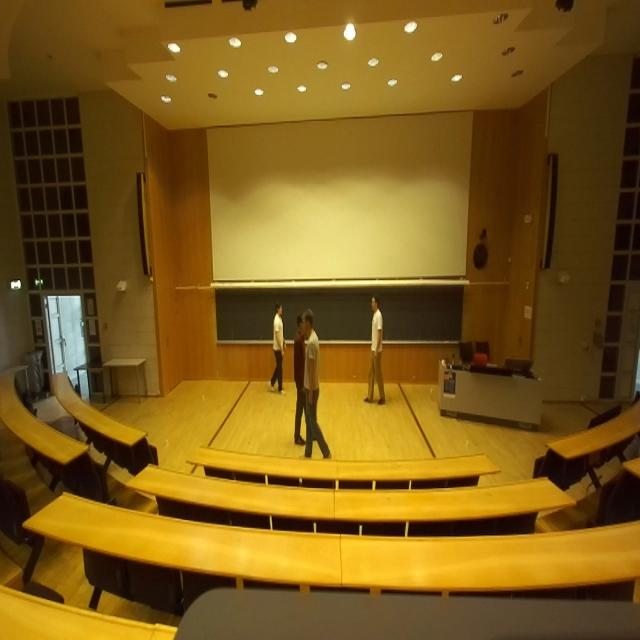person: (300, 308, 332, 458), (294, 313, 317, 445), (363, 295, 385, 404), (270, 301, 286, 394)
